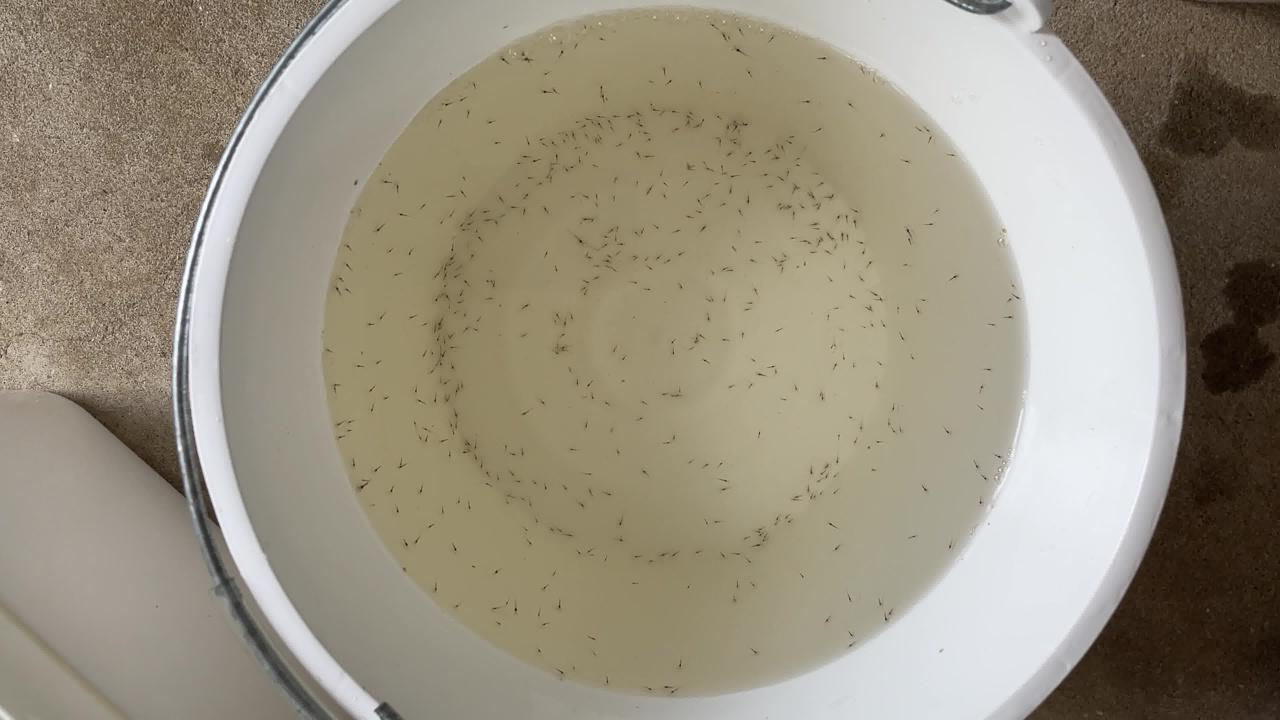shrimp: (439, 101, 451, 109), (433, 117, 445, 125), (454, 95, 466, 103), (461, 111, 473, 119), (467, 81, 479, 89), (484, 117, 496, 125), (492, 138, 504, 146), (522, 136, 534, 144), (521, 149, 533, 157), (512, 157, 524, 165), (529, 158, 541, 166), (534, 142, 546, 150), (531, 134, 543, 142), (544, 137, 556, 145), (554, 137, 566, 145), (558, 131, 570, 139), (565, 131, 577, 139), (569, 117, 581, 125), (578, 120, 590, 128), (578, 129, 590, 137), (586, 136, 598, 144), (591, 136, 603, 144), (592, 130, 604, 138), (591, 121, 603, 129), (591, 113, 603, 121), (603, 117, 615, 125), (605, 123, 617, 131), (605, 112, 617, 120), (610, 141, 622, 149), (623, 130, 635, 138), (631, 150, 643, 158), (639, 151, 651, 159), (641, 136, 653, 144), (638, 129, 650, 137), (631, 119, 643, 127), (623, 112, 635, 120), (630, 107, 642, 115), (595, 80, 607, 88), (593, 94, 605, 102), (539, 88, 551, 96), (548, 86, 560, 94), (656, 67, 668, 75), (643, 77, 655, 85), (662, 77, 674, 85), (692, 78, 704, 86), (645, 98, 657, 106), (648, 103, 660, 111), (654, 107, 666, 115), (666, 105, 678, 113), (665, 125, 677, 133), (680, 118, 692, 126), (677, 112, 689, 120), (681, 108, 693, 116), (692, 121, 704, 129), (709, 111, 721, 119), (710, 131, 722, 139), (715, 138, 727, 146), (729, 142, 741, 150), (725, 131, 737, 139), (724, 149, 736, 157), (718, 122, 730, 130), (727, 126, 739, 134), (729, 116, 741, 124), (736, 119, 748, 127), (741, 148, 753, 156), (746, 157, 758, 165), (739, 159, 751, 167), (758, 145, 770, 153), (769, 154, 781, 162), (770, 144, 782, 152), (775, 143, 787, 151), (781, 139, 793, 147), (784, 132, 796, 140), (790, 151, 802, 159), (790, 159, 802, 167), (758, 171, 770, 179), (761, 183, 773, 191), (772, 174, 784, 182), (782, 170, 794, 178), (728, 168, 740, 176), (715, 163, 727, 171), (718, 168, 730, 176), (700, 158, 712, 166), (706, 167, 718, 175), (682, 162, 694, 170), (678, 179, 690, 187), (660, 179, 672, 187), (658, 190, 670, 198), (644, 186, 656, 194), (650, 166, 662, 174), (629, 178, 641, 186), (609, 175, 621, 183), (609, 191, 621, 199), (594, 190, 606, 198), (591, 199, 603, 207), (581, 191, 593, 199), (568, 194, 580, 202), (587, 163, 599, 171), (577, 149, 589, 157), (563, 138, 575, 146), (573, 152, 585, 160), (567, 159, 579, 167), (558, 164, 570, 172), (549, 149, 561, 157), (546, 156, 558, 164), (542, 168, 554, 176), (545, 172, 557, 180), (523, 171, 535, 179), (532, 178, 544, 186), (509, 178, 521, 186), (517, 192, 529, 200), (538, 205, 550, 213), (517, 205, 529, 213), (507, 204, 519, 212), (492, 196, 504, 204), (497, 211, 509, 219), (482, 217, 494, 225), (479, 207, 491, 215), (490, 219, 502, 227), (457, 174, 469, 182), (457, 187, 469, 195), (447, 194, 459, 202), (444, 209, 456, 217), (437, 216, 449, 224), (456, 226, 468, 234), (453, 221, 465, 229), (461, 219, 473, 227), (464, 211, 476, 219), (470, 224, 482, 232), (472, 233, 484, 241), (444, 246, 456, 254), (428, 268, 440, 276), (437, 270, 449, 278), (439, 263, 451, 271), (444, 259, 456, 267), (446, 254, 458, 262), (449, 261, 461, 269), (449, 268, 461, 276), (457, 276, 469, 284), (435, 279, 447, 287), (455, 287, 467, 295), (468, 250, 480, 258), (428, 292, 440, 300), (439, 292, 451, 300), (442, 302, 454, 310), (405, 310, 417, 318), (419, 322, 431, 330), (423, 323, 435, 331), (431, 324, 443, 332), (433, 319, 445, 327), (458, 310, 470, 318), (453, 301, 465, 309), (473, 311, 485, 319), (469, 325, 481, 333), (459, 325, 471, 333), (482, 296, 494, 304), (486, 282, 498, 290), (480, 277, 492, 285), (515, 300, 527, 308), (515, 326, 527, 334), (440, 331, 452, 339), (438, 337, 450, 345), (429, 336, 441, 344), (414, 354, 426, 362), (427, 351, 439, 359), (436, 348, 448, 356), (449, 341, 461, 349), (446, 363, 458, 371), (436, 358, 448, 366), (427, 358, 439, 366), (425, 365, 437, 373), (431, 374, 443, 382), (437, 377, 449, 385), (429, 395, 441, 403), (438, 395, 450, 403), (448, 385, 460, 393), (451, 382, 463, 390), (409, 383, 421, 391), (412, 398, 424, 406), (449, 409, 461, 417), (441, 417, 453, 425), (443, 427, 455, 435), (453, 420, 465, 428), (406, 420, 418, 428), (410, 433, 422, 441), (417, 424, 429, 432), (418, 432, 430, 440), (435, 438, 447, 446), (443, 451, 455, 459), (456, 450, 468, 458), (460, 436, 472, 444), (468, 441, 480, 449), (465, 453, 477, 461), (474, 460, 486, 468), (480, 469, 492, 477), (479, 480, 491, 488), (489, 472, 501, 480), (497, 440, 509, 448), (504, 450, 516, 458), (515, 450, 527, 458), (517, 412, 529, 420), (537, 397, 549, 405), (536, 248, 548, 256), (548, 263, 560, 271), (550, 312, 562, 320), (545, 318, 557, 326), (557, 321, 569, 329), (565, 311, 577, 319), (554, 328, 566, 336), (547, 339, 559, 347), (546, 348, 558, 356), (556, 342, 568, 350), (559, 364, 571, 372), (568, 379, 580, 387), (584, 376, 596, 384), (584, 392, 596, 400), (579, 420, 591, 428), (566, 444, 578, 452), (504, 470, 516, 478), (507, 477, 519, 485), (502, 490, 514, 498), (499, 496, 511, 504), (524, 497, 536, 505), (516, 496, 528, 504), (525, 477, 537, 485), (535, 482, 547, 490), (557, 482, 569, 490), (581, 469, 593, 477), (581, 486, 593, 494), (577, 498, 589, 506), (599, 490, 611, 498), (532, 516, 544, 524), (519, 523, 531, 531), (521, 534, 533, 542), (541, 525, 553, 533), (551, 524, 563, 532), (561, 531, 573, 539), (570, 550, 582, 558), (584, 544, 596, 552), (584, 551, 596, 559), (600, 556, 612, 564), (612, 537, 624, 545), (612, 515, 624, 523), (627, 579, 639, 587), (626, 553, 638, 561), (611, 451, 623, 459), (600, 399, 612, 407), (636, 469, 648, 477), (631, 416, 643, 424), (641, 399, 653, 407), (616, 354, 628, 362), (607, 345, 619, 353), (655, 389, 667, 397), (669, 392, 681, 400), (673, 382, 685, 390), (657, 438, 669, 446), (668, 430, 680, 438), (681, 457, 693, 465), (701, 463, 713, 471), (714, 458, 726, 466), (717, 476, 729, 484), (718, 488, 730, 496), (696, 517, 708, 525), (711, 516, 723, 524), (642, 557, 654, 565), (655, 548, 667, 556), (667, 547, 679, 555), (691, 545, 703, 553), (715, 551, 727, 559), (726, 551, 738, 559), (581, 214, 593, 222), (571, 235, 583, 243), (572, 282, 584, 290), (580, 289, 592, 297), (577, 275, 589, 283), (589, 272, 601, 280), (589, 258, 601, 266), (581, 250, 593, 258), (609, 266, 621, 274), (597, 265, 609, 273), (600, 259, 612, 267), (604, 252, 616, 260), (597, 244, 609, 252), (599, 234, 611, 242), (603, 228, 615, 236), (611, 225, 623, 233), (608, 234, 620, 242), (612, 239, 624, 247), (627, 248, 639, 256), (626, 254, 638, 262), (625, 277, 637, 285), (639, 285, 651, 293), (641, 264, 653, 272), (640, 255, 652, 263), (627, 229, 639, 237), (633, 227, 645, 235), (649, 251, 661, 259), (658, 258, 670, 266), (673, 283, 685, 291), (674, 250, 686, 258), (668, 227, 680, 235), (651, 222, 663, 230), (680, 214, 692, 222), (697, 226, 709, 234), (692, 208, 704, 216), (692, 202, 704, 210), (700, 194, 712, 202), (712, 179, 724, 187), (725, 183, 737, 191), (715, 201, 727, 209), (730, 207, 742, 215), (740, 196, 752, 204), (728, 244, 740, 252), (707, 269, 719, 277), (720, 263, 732, 271), (724, 268, 736, 276), (718, 293, 730, 301), (708, 291, 720, 299), (702, 296, 714, 304), (704, 310, 716, 318), (664, 337, 676, 345), (669, 347, 681, 355), (686, 346, 698, 354), (691, 338, 703, 346), (696, 332, 708, 340), (697, 360, 709, 368), (718, 334, 730, 342), (736, 333, 748, 341), (740, 306, 752, 314), (740, 298, 752, 306), (747, 288, 759, 296), (745, 253, 757, 261), (752, 237, 764, 245), (766, 251, 778, 259), (777, 249, 789, 257), (778, 255, 790, 263), (770, 260, 782, 268), (778, 267, 790, 275), (792, 261, 804, 269), (800, 260, 812, 268), (784, 230, 796, 238), (798, 236, 810, 244), (807, 250, 819, 258), (772, 199, 784, 207), (775, 205, 787, 213), (783, 204, 795, 212), (788, 210, 800, 218), (792, 181, 804, 189), (787, 186, 799, 194), (797, 202, 809, 210), (805, 191, 817, 199), (813, 180, 825, 188), (806, 169, 818, 177), (811, 203, 823, 211), (821, 194, 833, 202), (806, 217, 818, 225), (809, 224, 821, 232), (811, 235, 823, 243), (821, 248, 833, 256), (829, 245, 841, 253), (821, 233, 833, 241), (833, 228, 845, 236), (842, 233, 854, 241), (831, 211, 843, 219), (838, 211, 850, 219), (848, 219, 860, 227), (848, 204, 860, 212), (767, 323, 779, 331), (746, 356, 758, 364), (726, 383, 738, 391), (747, 385, 759, 393), (757, 371, 769, 379), (762, 364, 774, 372), (769, 368, 781, 376), (750, 431, 762, 439), (779, 398, 791, 406), (792, 384, 804, 392), (816, 395, 828, 403), (831, 363, 843, 371), (837, 354, 849, 362), (847, 364, 859, 372), (827, 339, 839, 347), (820, 315, 832, 323), (834, 326, 846, 334), (829, 303, 841, 311), (822, 275, 834, 283), (835, 262, 847, 270), (853, 239, 865, 247), (858, 247, 870, 255), (861, 261, 873, 269), (855, 272, 867, 280), (846, 292, 858, 300), (861, 287, 873, 295), (874, 292, 886, 300), (863, 304, 875, 312), (855, 324, 867, 332), (863, 320, 875, 328), (876, 320, 888, 328), (890, 304, 902, 312), (895, 333, 907, 341), (903, 355, 915, 363), (872, 357, 884, 365), (871, 379, 883, 387), (890, 406, 902, 414), (882, 414, 894, 422), (887, 425, 899, 433), (893, 423, 905, 431), (846, 412, 858, 420), (856, 422, 868, 430), (838, 433, 850, 441), (852, 434, 864, 442), (873, 436, 885, 444), (864, 467, 876, 475), (831, 454, 843, 462), (819, 461, 831, 469), (815, 468, 827, 476), (821, 469, 833, 477), (814, 477, 826, 485), (807, 468, 819, 476), (831, 470, 843, 478), (830, 485, 842, 493), (800, 482, 812, 490), (813, 488, 825, 496), (809, 493, 821, 501), (805, 492, 817, 500), (792, 491, 804, 499), (791, 497, 803, 505), (781, 511, 793, 519), (784, 517, 796, 525), (773, 512, 785, 520), (769, 520, 781, 528), (738, 533, 750, 541), (747, 543, 759, 551), (752, 524, 764, 532), (755, 530, 767, 538), (761, 532, 773, 540), (740, 555, 752, 563), (730, 577, 742, 585), (730, 594, 742, 602), (747, 646, 759, 654), (819, 614, 831, 622), (792, 570, 804, 578), (745, 581, 757, 589), (678, 584, 690, 592), (829, 520, 841, 528), (833, 541, 845, 549), (843, 593, 855, 601), (842, 625, 854, 633), (847, 641, 859, 649), (874, 598, 886, 606), (877, 616, 889, 624), (885, 603, 897, 611), (906, 531, 918, 539), (918, 485, 930, 493), (942, 425, 954, 433), (943, 544, 955, 552), (971, 498, 983, 506), (979, 472, 991, 480), (967, 457, 979, 465), (993, 453, 1005, 461), (975, 404, 987, 412), (973, 384, 985, 392), (979, 360, 991, 368), (984, 320, 996, 328), (908, 305, 920, 313), (915, 294, 927, 302), (946, 273, 958, 281), (1004, 313, 1016, 321), (1000, 295, 1012, 303), (1011, 291, 1023, 299), (899, 264, 911, 272), (903, 239, 915, 247), (898, 222, 910, 230), (923, 220, 935, 228), (930, 209, 942, 217), (945, 149, 957, 157), (924, 137, 936, 145), (923, 122, 935, 130), (910, 124, 922, 132), (901, 158, 913, 166), (877, 131, 889, 139), (844, 98, 856, 106), (796, 96, 808, 104), (811, 129, 823, 137), (813, 54, 825, 62), (764, 35, 776, 43), (740, 70, 752, 78), (734, 46, 746, 54), (734, 25, 746, 33), (722, 34, 734, 42), (718, 35, 730, 43), (709, 22, 721, 30), (593, 36, 605, 44), (580, 19, 592, 27), (568, 39, 580, 47), (555, 48, 567, 56), (540, 68, 552, 76), (518, 56, 530, 64), (518, 49, 530, 57), (499, 57, 511, 65), (376, 178, 388, 186), (387, 184, 399, 192), (413, 202, 425, 210), (398, 211, 410, 219), (378, 223, 390, 231), (385, 246, 397, 254), (405, 246, 417, 254), (389, 269, 401, 277), (340, 243, 352, 251), (343, 259, 355, 267), (334, 274, 346, 282), (329, 284, 341, 292), (341, 287, 353, 295), (361, 321, 373, 329), (380, 309, 392, 317), (320, 346, 332, 354), (355, 347, 367, 355), (355, 361, 367, 369), (368, 358, 380, 366), (326, 378, 338, 386), (326, 384, 338, 392), (365, 383, 377, 391), (380, 394, 392, 402), (369, 403, 381, 411), (329, 419, 341, 427), (339, 417, 351, 425), (339, 425, 351, 433), (334, 434, 346, 442), (346, 457, 358, 465), (357, 474, 369, 482), (357, 481, 369, 489), (368, 465, 380, 473), (393, 454, 405, 462), (397, 460, 409, 468), (384, 484, 396, 492), (391, 504, 403, 512), (366, 502, 378, 510), (417, 485, 429, 493), (436, 507, 448, 515), (450, 499, 462, 507), (461, 500, 473, 508), (420, 521, 432, 529), (409, 536, 421, 544), (399, 539, 411, 547), (446, 543, 458, 551), (430, 583, 442, 591), (450, 601, 462, 609), (466, 559, 478, 567), (487, 566, 499, 574), (485, 603, 497, 611), (491, 619, 503, 627), (498, 597, 510, 605), (509, 606, 521, 614), (537, 582, 549, 590), (548, 566, 560, 574), (532, 606, 544, 614), (535, 620, 547, 628), (552, 602, 564, 610), (531, 648, 543, 656), (551, 667, 563, 675), (567, 665, 579, 673), (588, 650, 600, 658), (585, 634, 597, 642), (603, 678, 615, 686), (639, 685, 651, 693), (660, 683, 672, 691), (670, 687, 682, 695), (675, 661, 687, 669), (604, 428, 616, 436), (616, 376, 628, 384)
